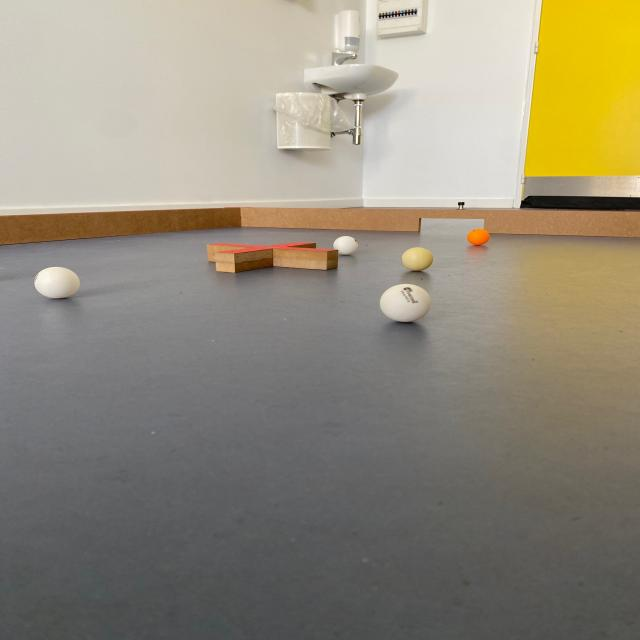big-goal: (413, 206, 497, 248)
obstacle: (0, 198, 246, 250), (205, 237, 337, 284)
orange-golf-balls: (461, 224, 496, 252)
white-golf-balls: (376, 279, 436, 329), (28, 262, 92, 302), (328, 233, 370, 259), (400, 246, 438, 274)
